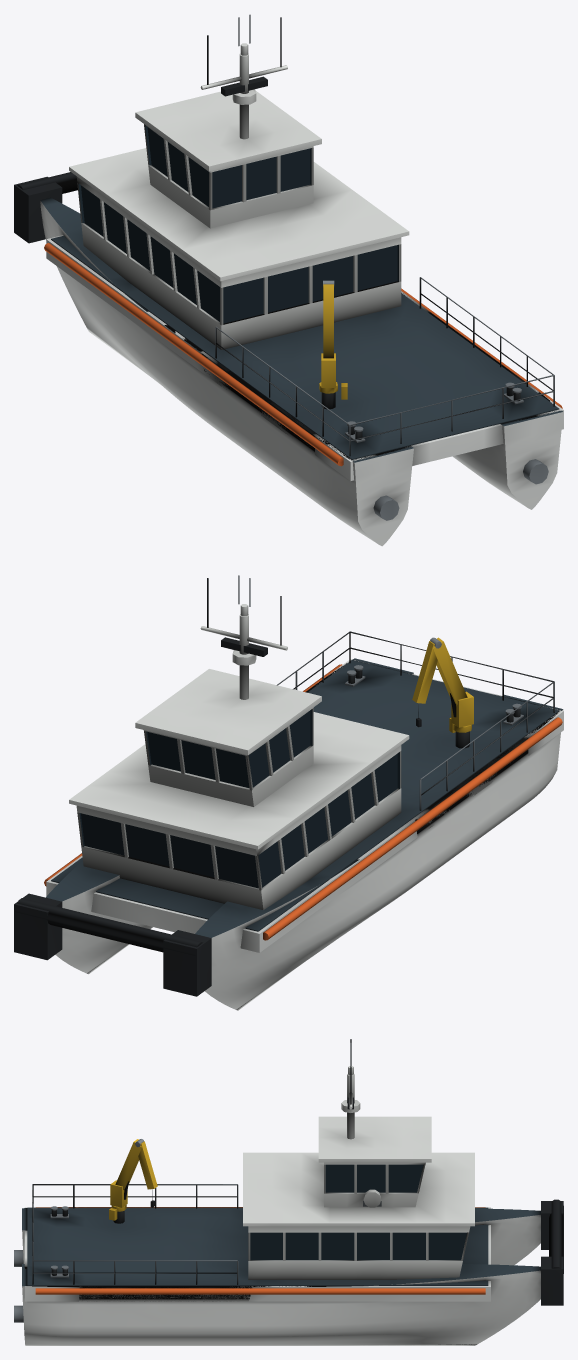
File: crew_boat_LOD0.glb
3 views of the same model, one above another, from view 1: azimuth 30°, elevation 25°; view 2: azimuth 150°, elevation 25°; view 3: azimuth 270°, elevation 25° (orthographic). The views are drawn at different scales.
Visible parts, largest first — view 1: Superstructure, Deck, Hull, Windows, Machinery, Safety, Rubber, Crane; view 2: Superstructure, Hull, Deck, Windows, Rubber, Safety, Machinery, Crane; view 3: Hull, Superstructure, Deck, Windows, Safety, Machinery, Rubber, Crane.
Part boxes in pixels (x1,y1,x2,y2): Superstructure: (69,43,409,349); Deck: (40,197,562,462); Hull: (40,201,563,546); Windows: (78,125,398,323); Machinery: (215,14,554,520); Safety: (44,243,562,466); Rubber: (14,17,281,243); Crane: (319,284,347,399); Superstructure: (69,604,409,909); Hull: (46,659,563,1010); Deck: (46,658,562,937); Windows: (79,709,399,888); Rubber: (14,578,456,996); Safety: (44,664,562,940); Machinery: (238,575,554,810); Crane: (412,637,473,732); Hull: (22,1207,540,1345); Superstructure: (243,1066,474,1279); Deck: (22,1207,540,1286); Windows: (250,1164,466,1260); Safety: (35,1207,485,1294); Machinery: (14,1043,381,1322); Rubber: (124,1039,563,1305); Crane: (109,1139,157,1220).
Bounding box in the file's own units: 7.38 × 11.18 × 20.41.
